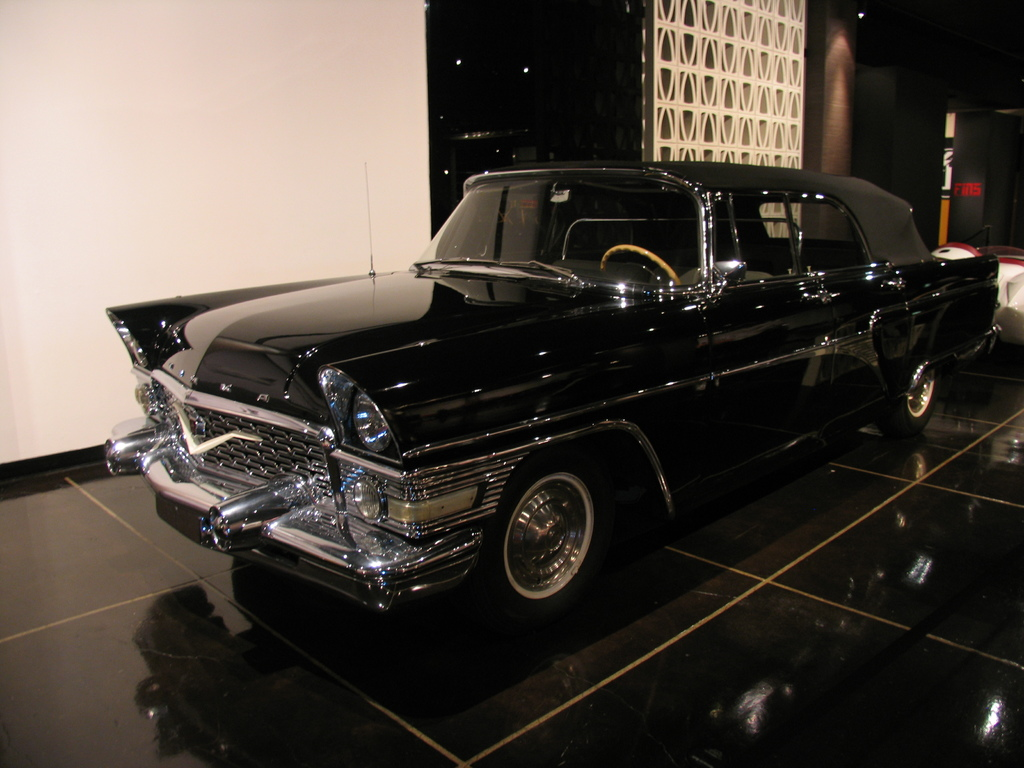Car: (81, 163, 965, 638)
